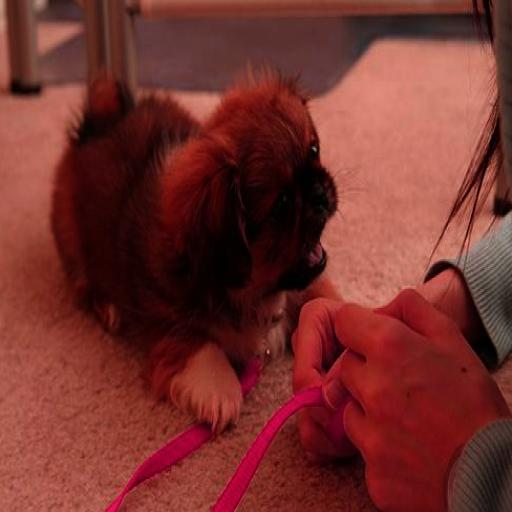dog_face: (168, 89, 334, 286)
